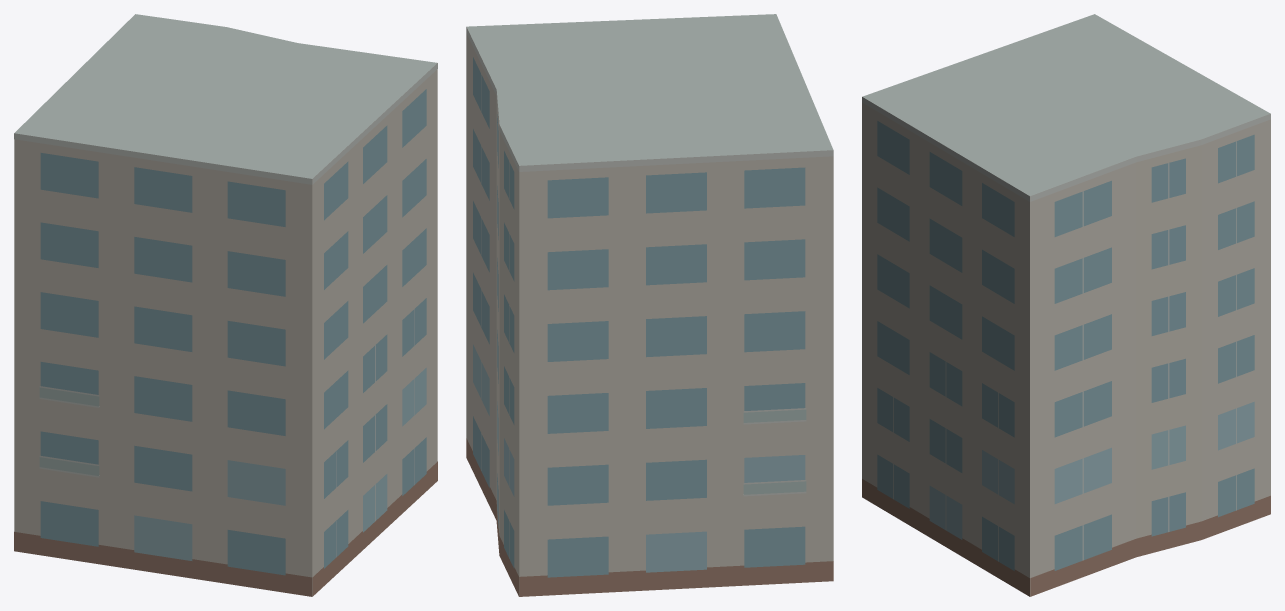
File: survey-upis-33042449.glb
3 renders of one model, left to right at view 1: azimuth 30°, elevation 25°; view 2: azimuth 150°, elevation 25°; view 3: azimuth 270°, elevation 25°, orthographic. The views are drawn at different scales.
Parts seen in each view (by area): view 1: survey-upis-33042449.tmp; view 2: survey-upis-33042449.tmp; view 3: survey-upis-33042449.tmp.
Boxes of the visible parts, bbox=[...] form: survey-upis-33042449.tmp: bbox=[14, 14, 437, 596]; survey-upis-33042449.tmp: bbox=[466, 14, 833, 596]; survey-upis-33042449.tmp: bbox=[862, 14, 1270, 596].
Size of the model in its own units: 16.7 by 17.1 by 15.82.
